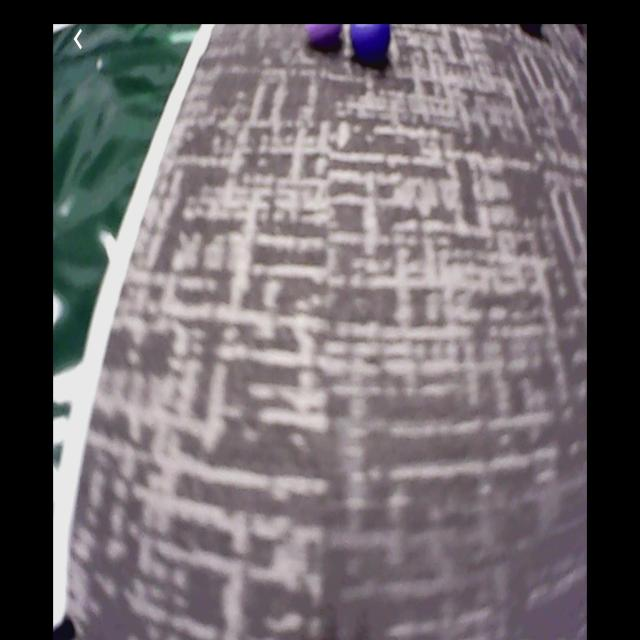ball: (351, 26, 393, 69), (309, 25, 345, 56)
